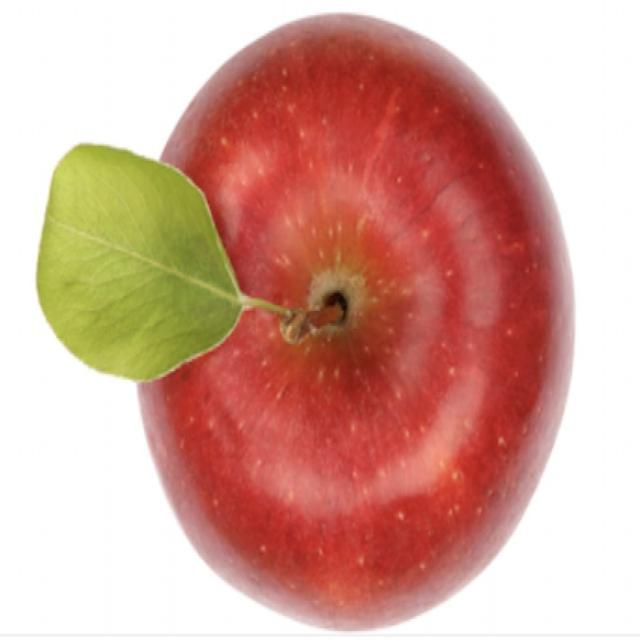Fresh Apple: (148, 25, 567, 640)
